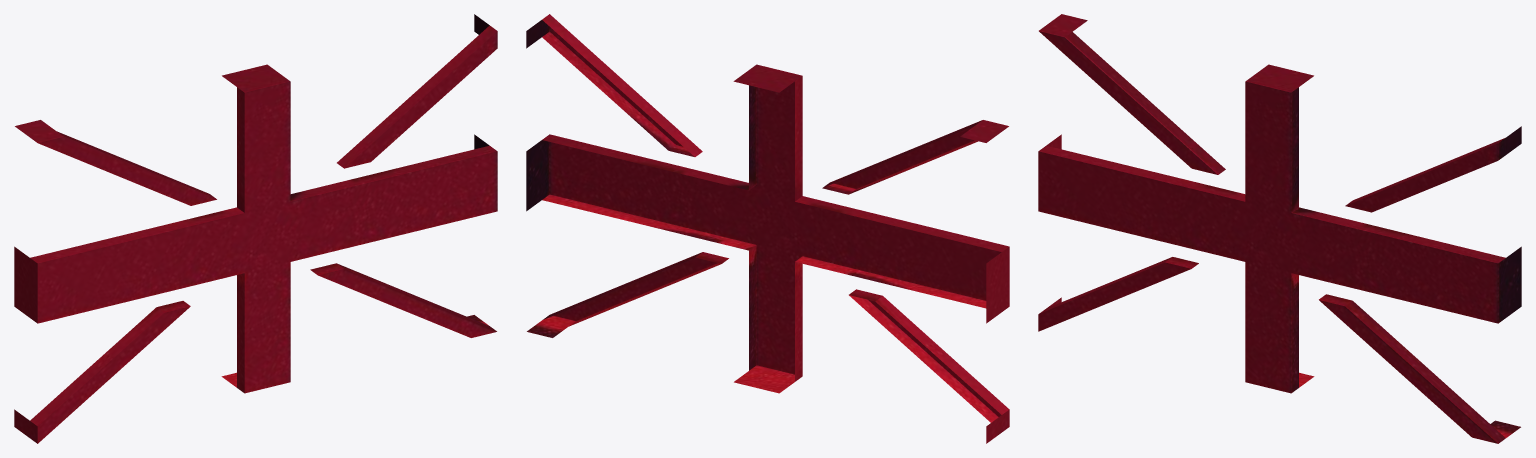
Rendered from united_kingdom_red.glb.
3 renders of one model, left to right at view 1: azimuth 30°, elevation 25°; view 2: azimuth 150°, elevation 25°; view 3: azimuth 330°, elevation 25°, orthographic.
Visible parts, largest first — view 1: united_kingdom_red; view 2: united_kingdom_red; view 3: united_kingdom_red.
Part boxes in pixels (x1,y1,x2,y2): united_kingdom_red: (14, 14, 497, 443); united_kingdom_red: (526, 14, 1009, 443); united_kingdom_red: (1038, 14, 1521, 443).
Size of the model in its own units: 1.28 by 0.8 by 0.112.
Materials: 1 (1 with a texture image).
